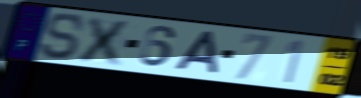1: (282, 38, 306, 86)
6: (139, 25, 178, 70)
7: (233, 31, 277, 82)
A: (172, 30, 221, 76)
S: (39, 12, 86, 61)
X: (75, 14, 136, 68)
